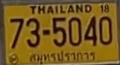0: (98, 15, 112, 44), (68, 16, 81, 45)
3: (26, 17, 39, 47)
4: (84, 16, 96, 44)
5: (52, 16, 66, 46)
7: (9, 17, 23, 48)
SPK: (28, 49, 96, 65)
